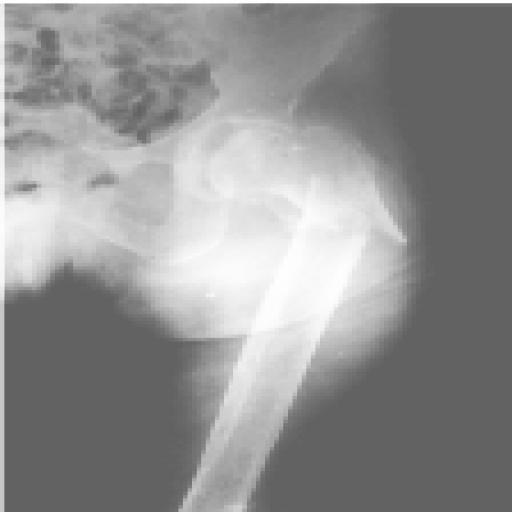intertrochanteric: (207, 126, 406, 238), (253, 179, 369, 335)
lesser-trochanter: (263, 173, 319, 229)
